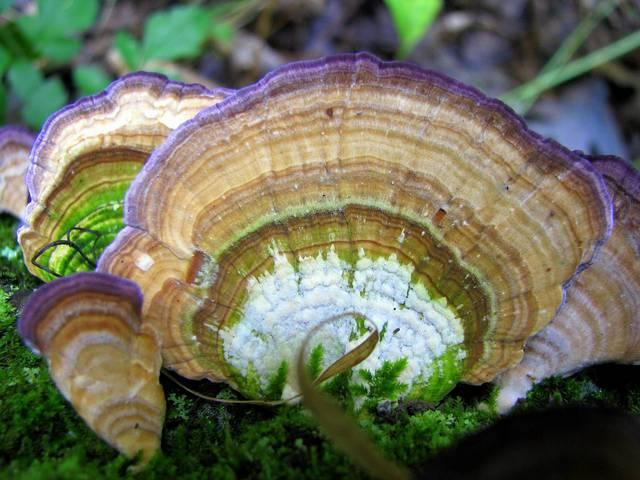Non-edible Mushroom: (13, 50, 638, 472)
